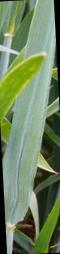Wheat: (1, 8, 51, 97), (3, 101, 42, 162), (6, 168, 34, 246)
